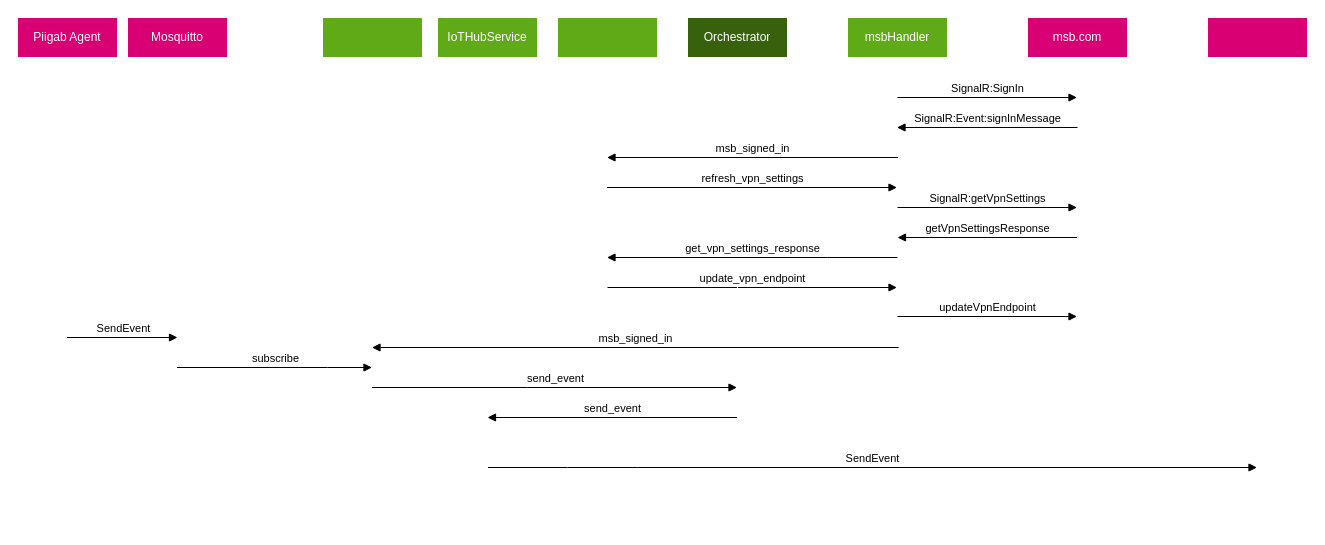
The diagram is 1325 pixels wide and 545 high, and some of its shapes have lost their labels. The shapes that lost their labels are listed below. From the top down, each one's centre as x and y in pixels, then its label:
At pixel 607 167: "vpnHelper".
At pixel 372 272: "MqttService".
At pixel 1257 272: "IoTHub".
